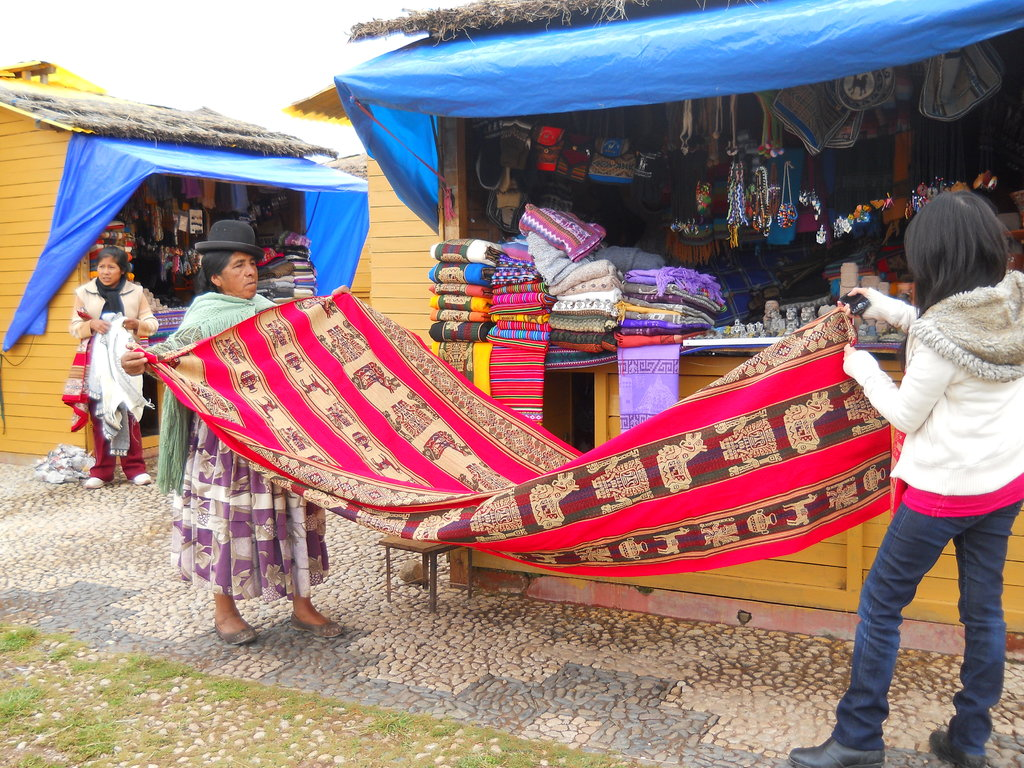Footwear: (783, 735, 881, 767), (926, 730, 992, 767), (209, 625, 255, 646), (290, 618, 340, 636), (134, 474, 155, 487), (86, 479, 104, 488)
